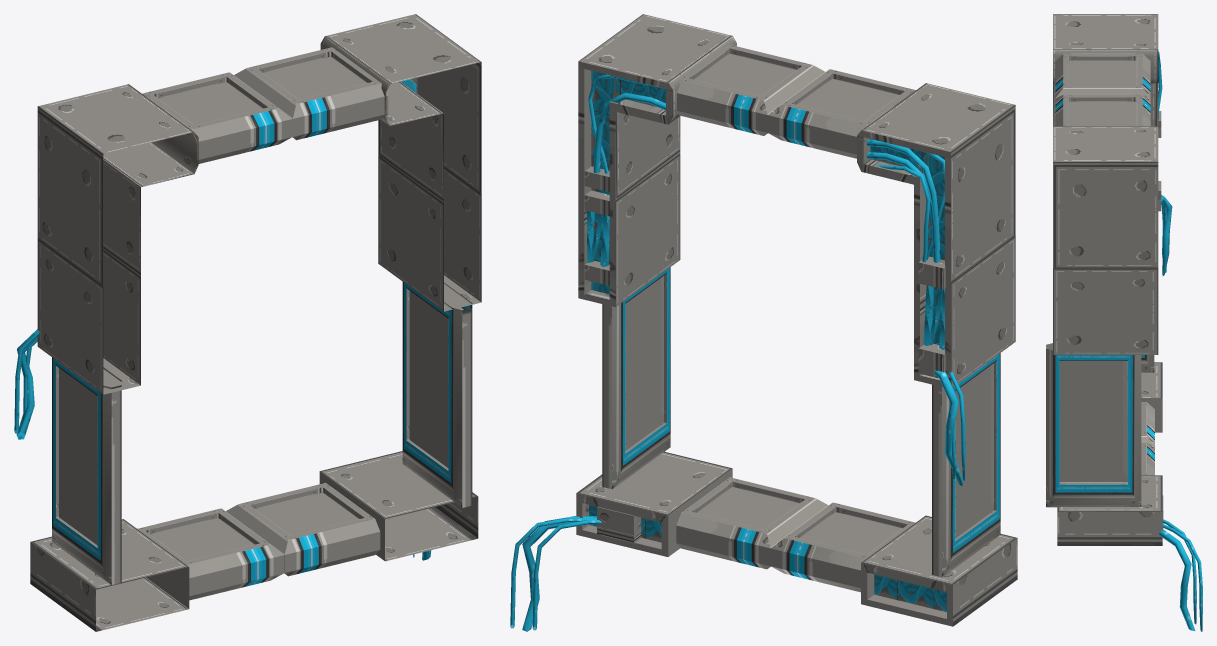
File: BroomClosetFBX.fbx
The picture shows the model from 3 angles, left to right: view 1: azimuth 30°, elevation 25°; view 2: azimuth 150°, elevation 25°; view 3: azimuth 270°, elevation 25°; orthographic projection. The views are drawn at different scales.
Parts seen in each view (by area): view 1: TopCornerWalll1, TopCornerWalll, TopDoorLeft (×2), TopDoorRight (×2), LeftSideDoor, RightSideDoor, CornerBase9, CornerBase7, CornerWire11; view 2: TopCornerWalll1, TopCornerWalll, TopDoorLeft (×2), TopDoorRight (×2), LeftSideDoor, RightSideDoor, CornerBase9, CornerBase7, CornerWire1 (×2), pCube6, CornerWire2, CornerWire11 (+5 smaller); view 3: TopCornerWalll, LeftSideDoor, TopCornerWalll1, CornerBase7, TopDoorRight (×2), TopDoorLeft (×2), CornerBase9, CornerWire2, CornerWire11, CornerWire3, CornerWire5, RightSideDoor.
Part boxes in pixels (x1,y1,x2,y2): TopCornerWalll1: (37, 84, 198, 394); TopCornerWalll: (320, 14, 481, 311); TopDoorLeft (×2): (225, 47, 388, 576); TopDoorRight (×2): (137, 72, 292, 600); LeftSideDoor: (402, 282, 472, 507); RightSideDoor: (52, 357, 121, 584); CornerBase9: (30, 519, 189, 631); CornerBase7: (319, 451, 478, 561); CornerWire11: (16, 329, 37, 439); TopCornerWalll1: (857, 83, 1015, 387); TopCornerWalll: (578, 14, 736, 307); TopDoorLeft (×2): (676, 44, 828, 569); TopDoorRight (×2): (767, 69, 915, 592); LeftSideDoor: (602, 267, 670, 489); RightSideDoor: (932, 353, 1000, 577); CornerBase9: (861, 515, 1017, 626); CornerBase7: (576, 451, 732, 556); CornerWire1 (×2): (593, 92, 940, 262); pCube6: (597, 506, 641, 543); CornerWire2: (522, 516, 596, 631); CornerWire11: (934, 370, 963, 485); TopCornerWalll: (1053, 126, 1158, 354); LeftSideDoor: (1046, 343, 1141, 507); TopCornerWalll1: (1053, 14, 1158, 126); CornerBase7: (1057, 475, 1162, 545); TopDoorRight (×2): (1055, 53, 1154, 446); TopDoorLeft (×2): (1055, 94, 1154, 475); CornerBase9: (1141, 362, 1162, 432); CornerWire2: (1159, 529, 1195, 630); CornerWire11: (1161, 195, 1172, 275); CornerWire3: (1162, 524, 1202, 631); CornerWire5: (1162, 519, 1196, 624); RightSideDoor: (1141, 355, 1154, 372).
Size of the model in its own units: 11.64 by 14.44 by 4.49.
